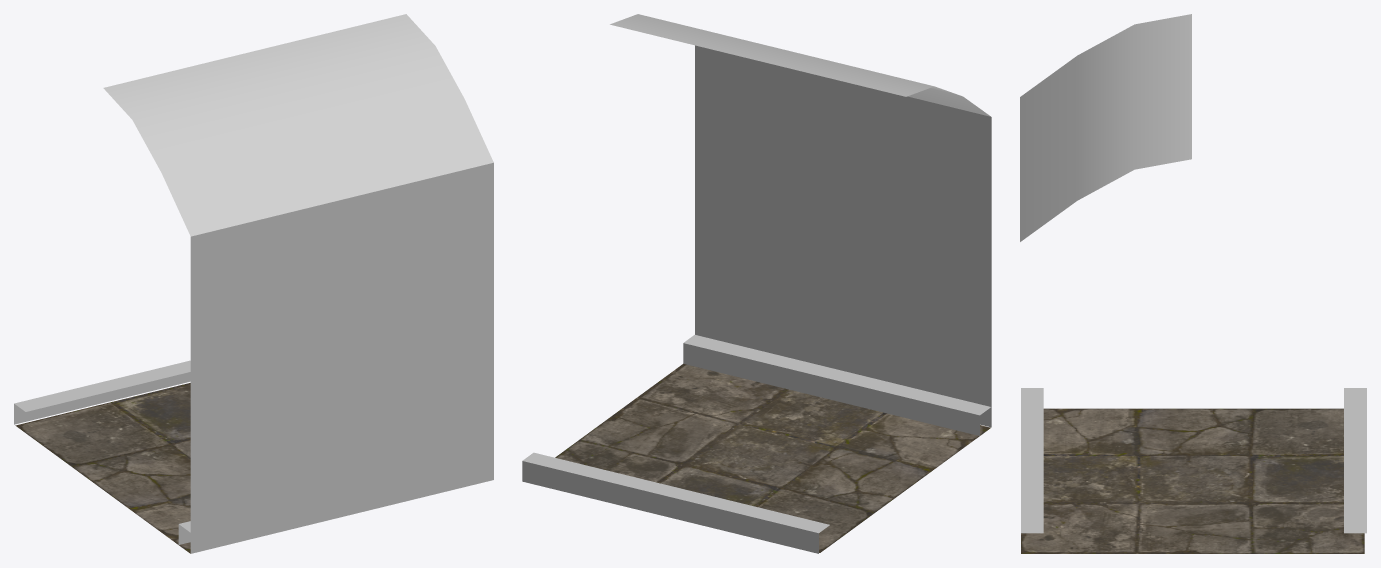
Rendered from HallwayDefault.FBX.
3 renders of one model, left to right at view 1: azimuth 30°, elevation 25°; view 2: azimuth 150°, elevation 25°; view 3: azimuth 270°, elevation 25°, orthographic. The views are drawn at different scales.
Visible parts, largest first — view 1: HallwayDefault; view 2: HallwayDefault; view 3: HallwayDefault.
Part boxes in pixels (left/top/right/bottom): HallwayDefault: left=14, top=14, right=493, bottom=553; HallwayDefault: left=522, top=14, right=991, bottom=553; HallwayDefault: left=1020, top=14, right=1366, bottom=553.
Bounding box in the file's own units: 750 × 950 × 757.
